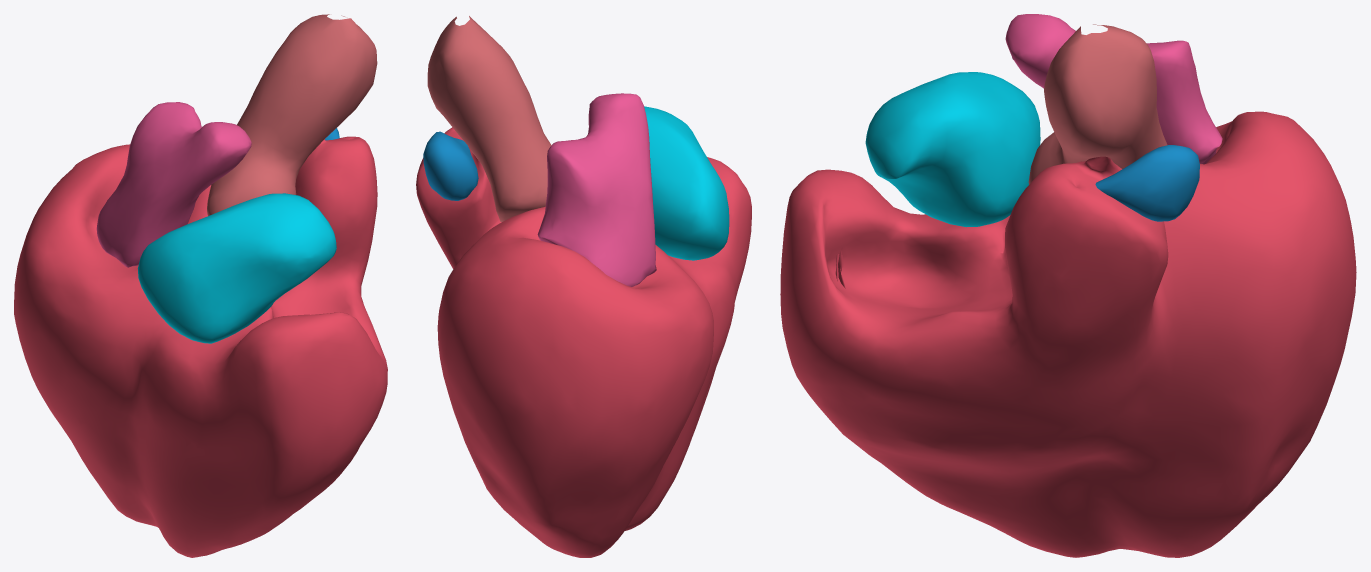
The model's file is frame_67.glb.
The picture shows the model from 3 angles, left to right: view 1: azimuth 30°, elevation 25°; view 2: azimuth 150°, elevation 25°; view 3: azimuth 270°, elevation 25°; orthographic projection. The views are drawn at different scales.
Parts seen in each view (by area): view 1: Renderer Node; view 2: Renderer Node; view 3: Renderer Node.
Part boxes in pixels (x1,y1,x2,y2): Renderer Node: (14, 14, 387, 557); Renderer Node: (416, 16, 751, 557); Renderer Node: (780, 14, 1356, 557).
Size of the model in its own units: 104 by 162 by 136.
